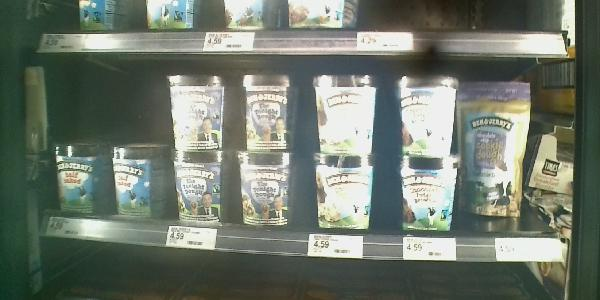icecream: (459, 77, 538, 222), (309, 67, 384, 157), (391, 71, 461, 156), (234, 146, 306, 227), (307, 156, 384, 231), (163, 145, 234, 226), (161, 63, 230, 145), (239, 65, 305, 149), (390, 156, 461, 234), (50, 137, 105, 214), (112, 141, 158, 218)
